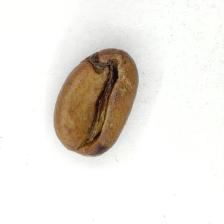NG: (80, 52, 121, 150)
